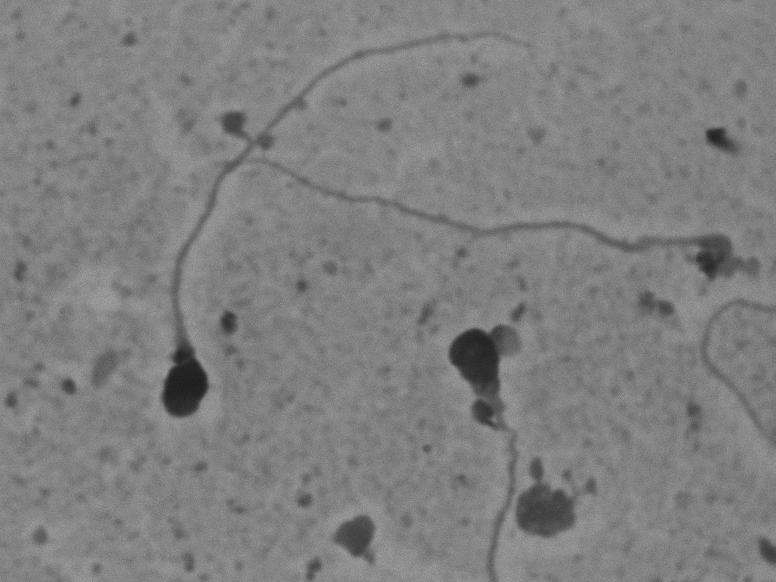Abnormal: (148, 18, 558, 428), (271, 152, 752, 297), (428, 304, 577, 574)
